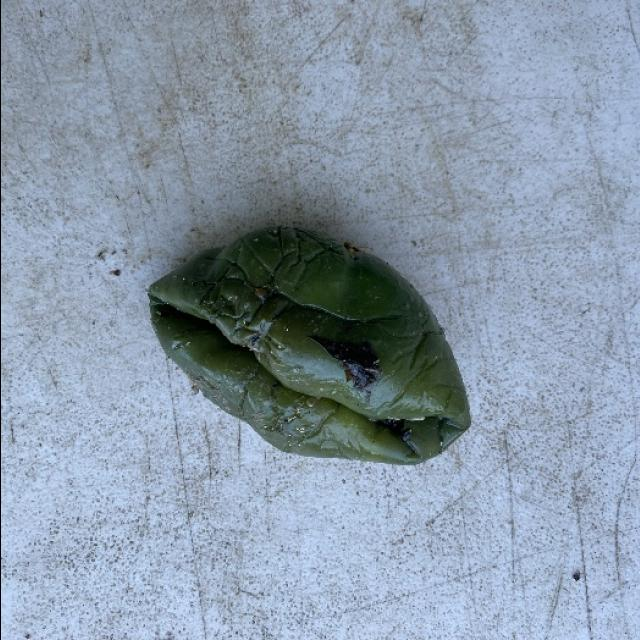organik: (150, 226, 472, 468)
